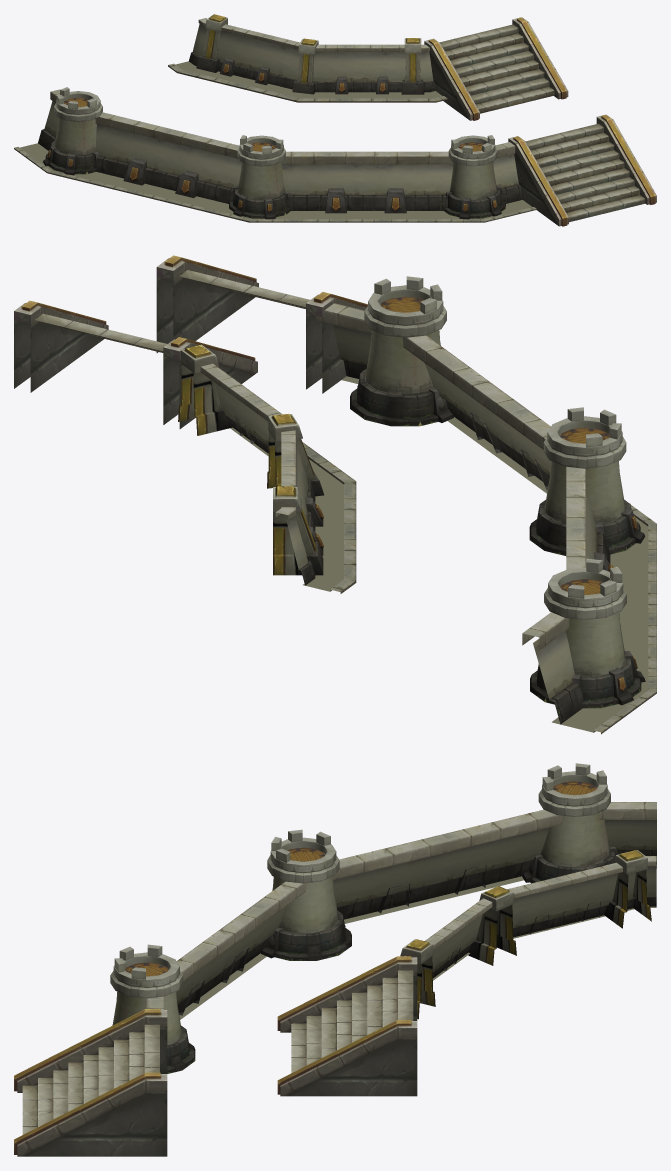
Rendered from JTZD_01_01.FBX.
The picture shows the model from 3 angles, top to bottom: view 1: azimuth 30°, elevation 25°; view 2: azimuth 150°, elevation 25°; view 3: azimuth 270°, elevation 25°; orthographic projection. The views are drawn at different scales.
Visible parts, largest first — view 1: Object2674, Object2661, Object2677; view 2: Object2674, Object2677, Object2661; view 3: Object2661, Object2674, Object2677.
Part boxes in pixels (x1,y1,x2,y2): Object2674: (14, 18, 536, 222); Object2661: (196, 14, 656, 226); Object2677: (43, 57, 505, 219); Object2674: (200, 303, 656, 734); Object2677: (235, 276, 645, 708); Object2661: (14, 255, 367, 575); Object2661: (14, 850, 651, 1156); Object2674: (146, 802, 656, 1019); Object2677: (110, 763, 617, 1073).
Bounding box in the file's own units: 2701 × 548 × 2372.
